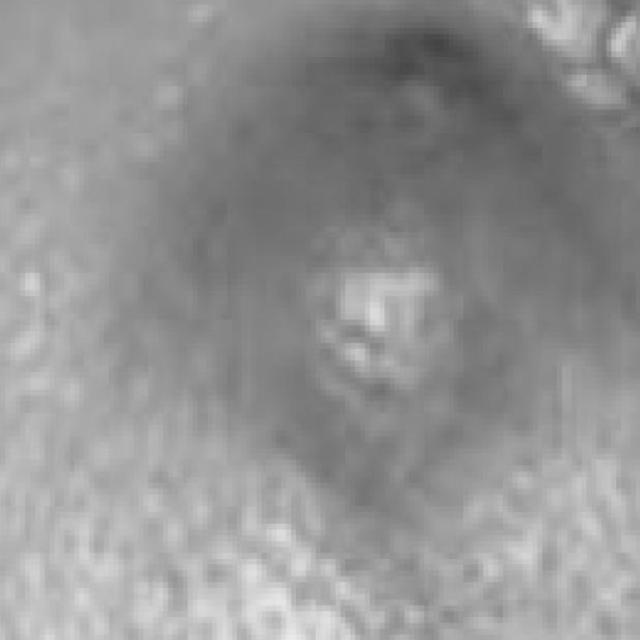nodule: (165, 0, 588, 492)
